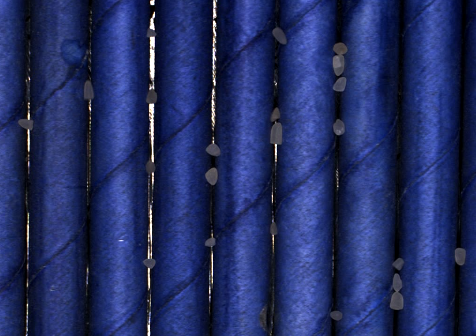broken_grain: (268, 122, 284, 147), (81, 77, 95, 104), (271, 26, 289, 47), (388, 292, 406, 312), (452, 245, 467, 267), (331, 76, 348, 94), (204, 166, 218, 187), (205, 141, 223, 157), (16, 117, 36, 131), (391, 272, 403, 295), (332, 117, 345, 137), (332, 41, 349, 55), (143, 255, 158, 270), (146, 87, 158, 105), (269, 105, 281, 123), (329, 309, 343, 324), (392, 256, 405, 271), (203, 236, 217, 249), (144, 159, 156, 174)
milky_grain: (332, 54, 346, 78)
